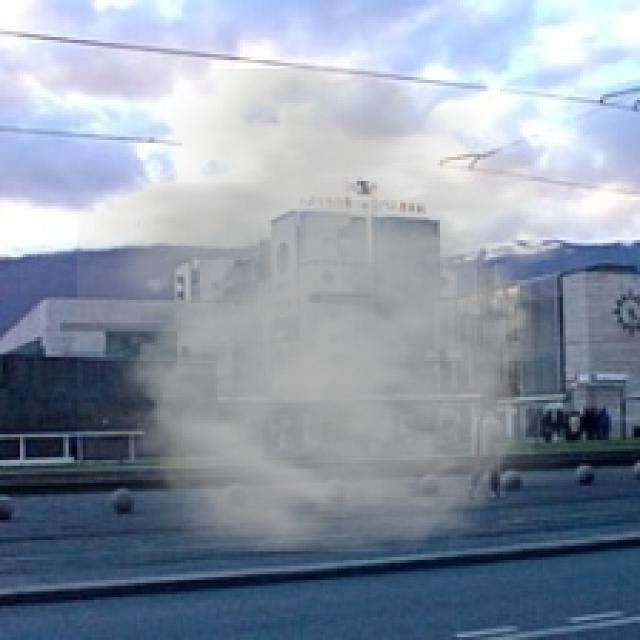Smoke: (77, 68, 629, 583)
